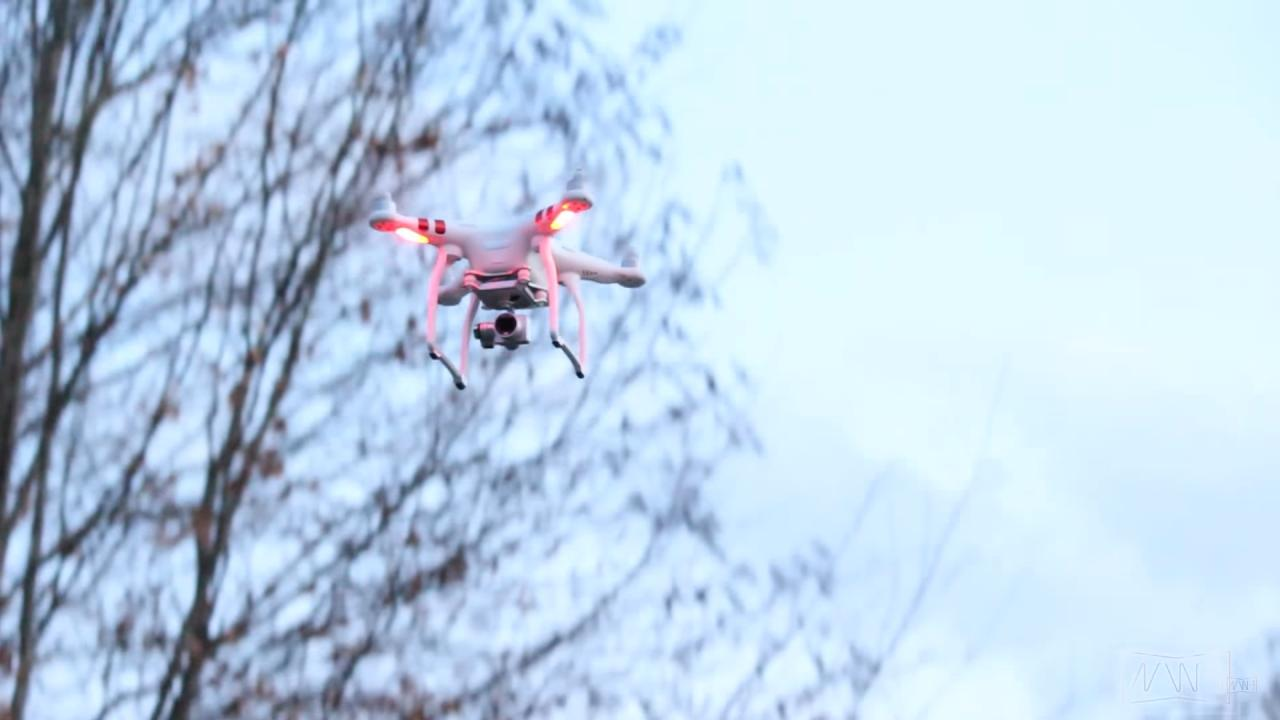Drone: (346, 175, 658, 404)
